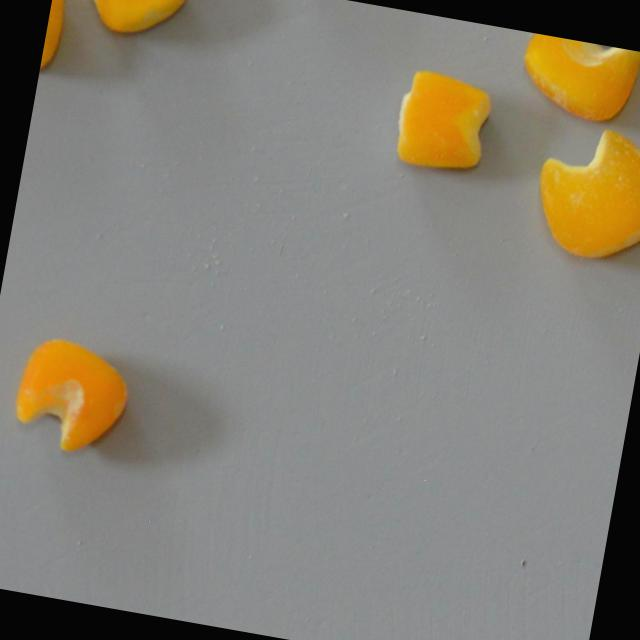no_canjicado: (390, 64, 500, 178), (72, 0, 191, 47), (39, 0, 68, 73)
pelicula: (528, 119, 640, 270), (8, 332, 139, 461), (515, 32, 640, 127)
